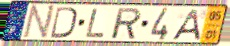4: (149, 7, 170, 42)
A: (170, 8, 202, 41)
D: (49, 6, 79, 39)
L: (84, 8, 107, 39)
N: (21, 4, 57, 41)
R: (111, 6, 143, 40)
